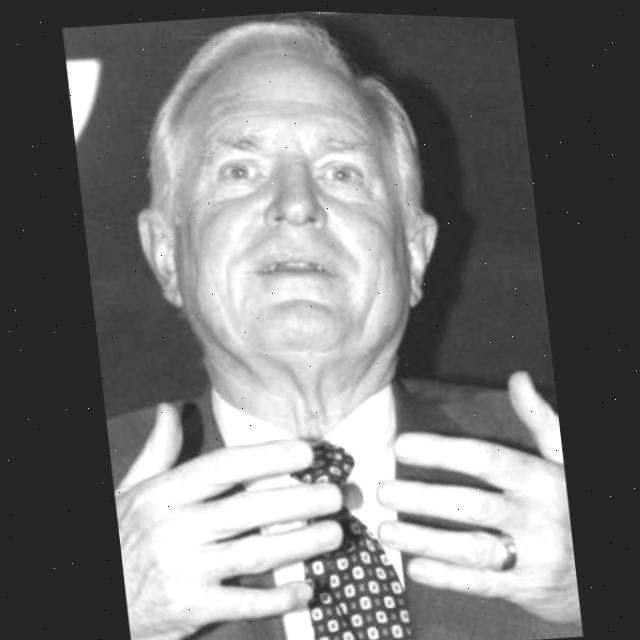face: (106, 39, 464, 397)
